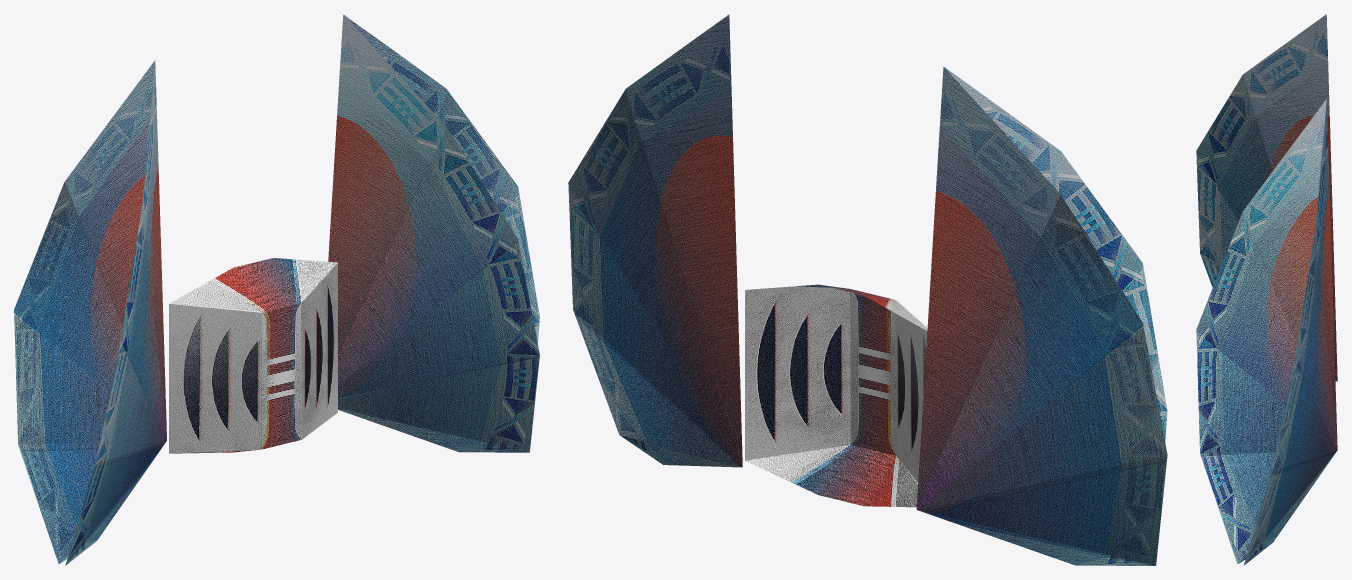
The model's file is listen.obj.
3 views of the same model, side by side, from view 1: azimuth 30°, elevation 25°; view 2: azimuth 150°, elevation 25°; view 3: azimuth 270°, elevation 25° (orthographic). The views are drawn at different scales.
Visible parts, largest first — view 1: ear_L, ear_R, head; view 2: ear_R, ear_L, head; view 3: ear_L, ear_R.
Boxes of the visible parts, bbox=[...] form: ear_L: bbox=[328, 14, 539, 452]; ear_R: bbox=[14, 60, 166, 565]; head: bbox=[169, 258, 337, 453]; ear_R: bbox=[916, 66, 1167, 565]; ear_L: bbox=[568, 14, 742, 467]; head: bbox=[745, 284, 927, 507]; ear_L: bbox=[1196, 99, 1337, 565]; ear_R: bbox=[1196, 14, 1337, 381].
Size of the model in its own units: 730 by 586 by 185.
